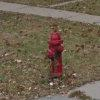Hydrant: (39, 23, 76, 85)
